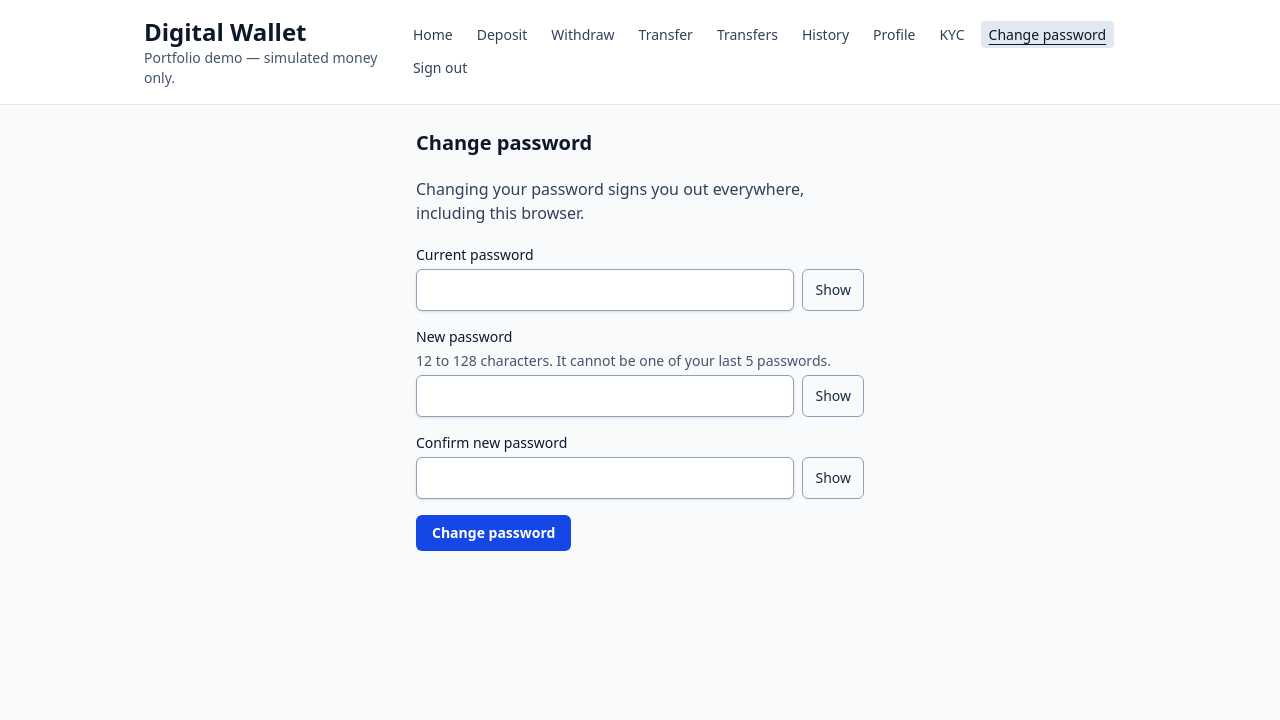
Test case: ChangePasswordPage › shows a policy refusal from the server
The width and height of the screenshot is (1280, 720).
Type "the old passphrase" into the password field labelled "Current password".
click(605, 290); type("the old passphrase")  # box [416,269,794,311]
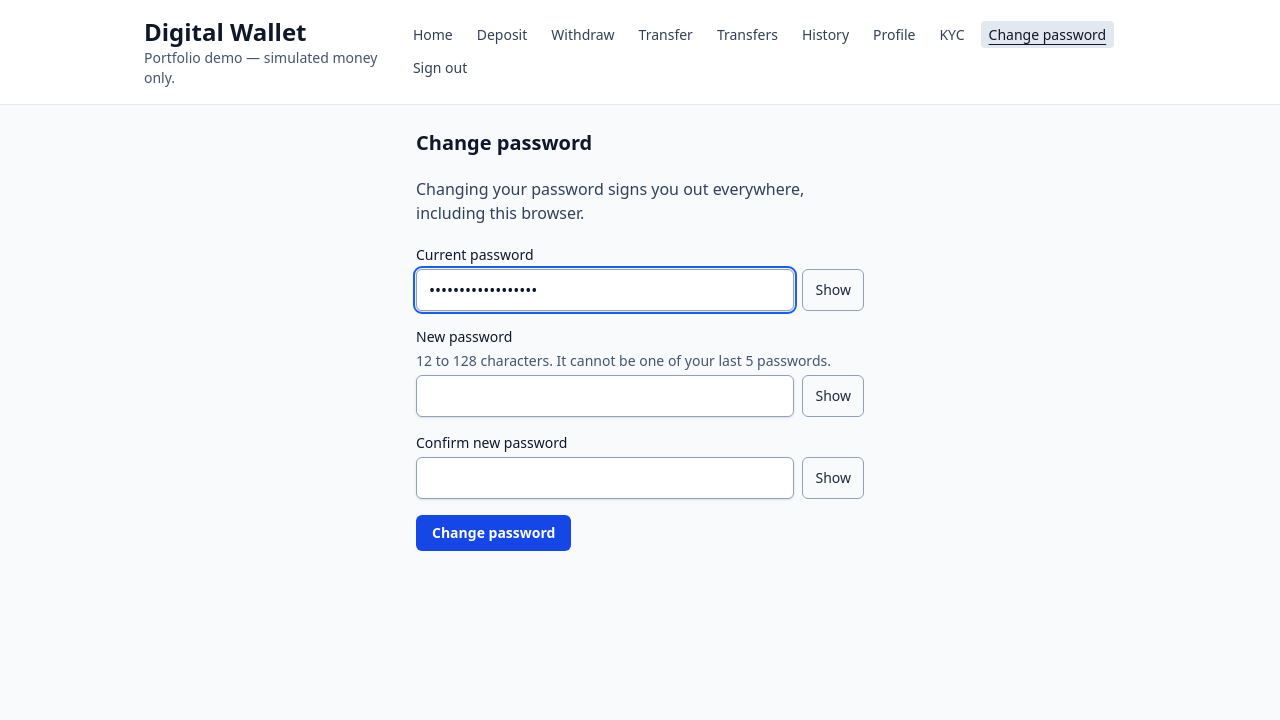
Type "a brand new passphrase" into the password field labelled "New password".
click(605, 396); type("a brand new passphrase")  # box [416,375,794,417]
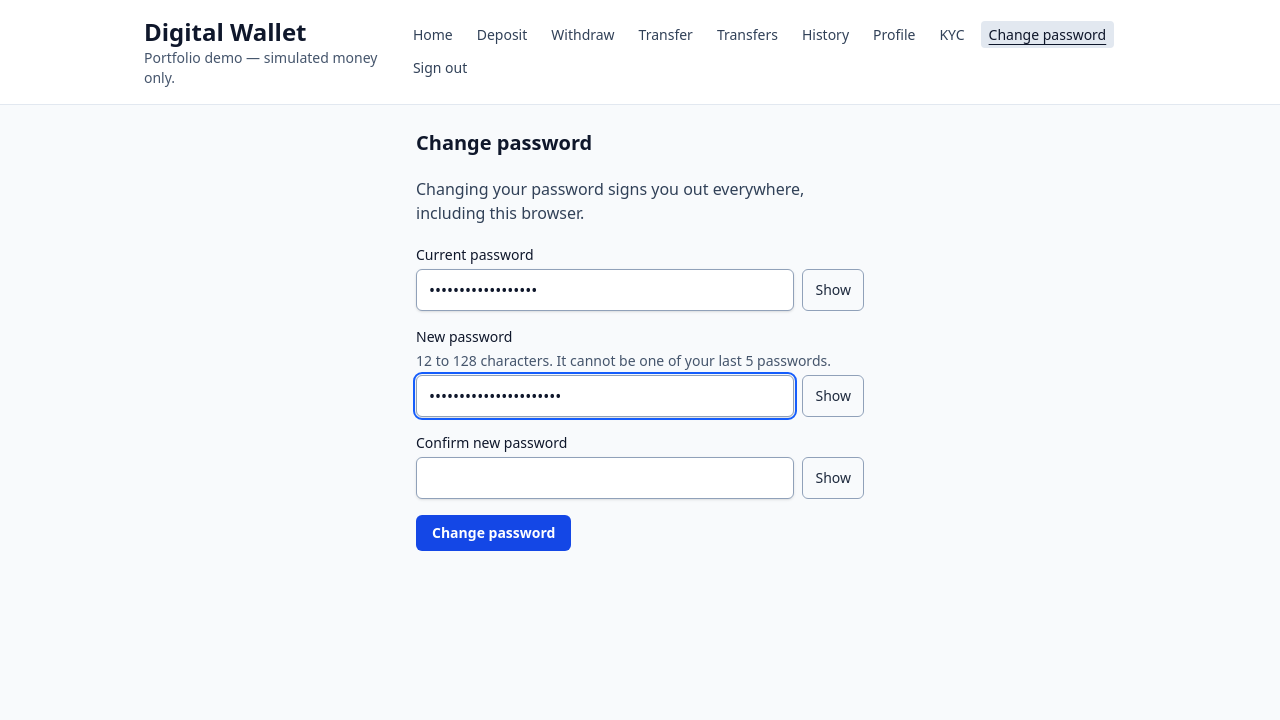
Type "a brand new passphrase" into the password field labelled "Confirm new password".
click(605, 478); type("a brand new passphrase")  # box [416,457,794,499]
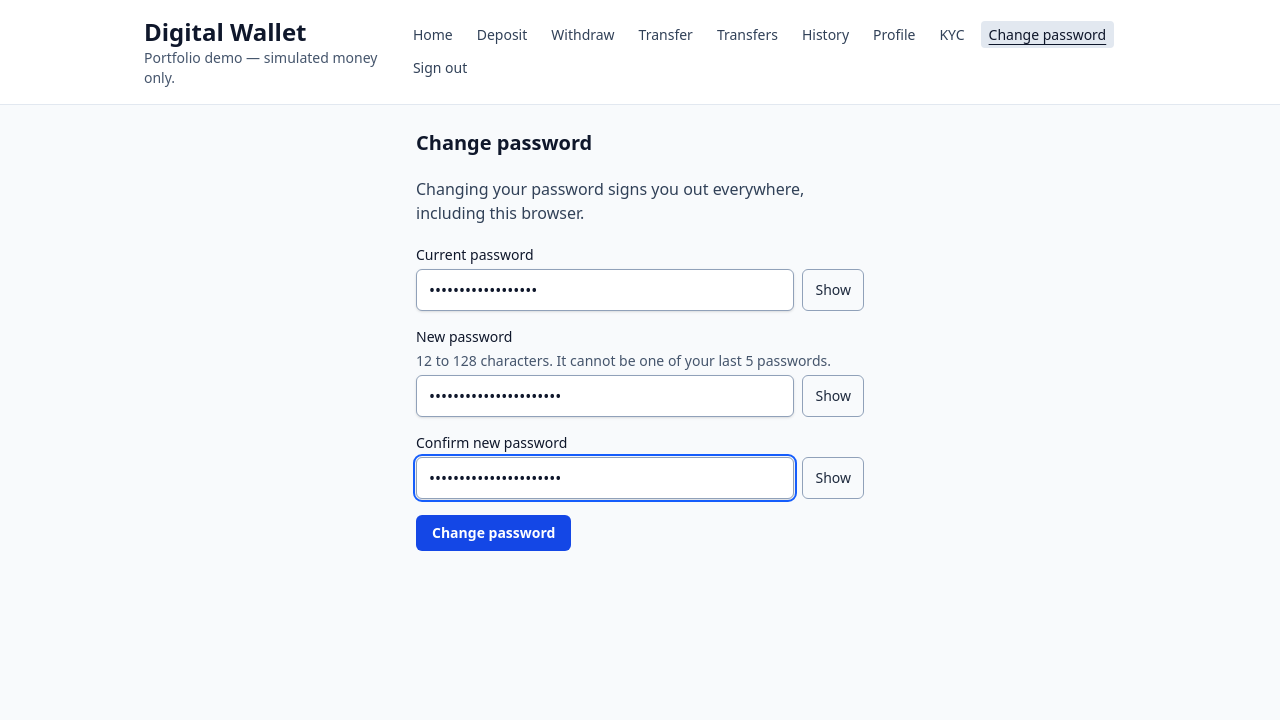
Click the button "Change password".
click(494, 533)  # box [416,515,571,551]
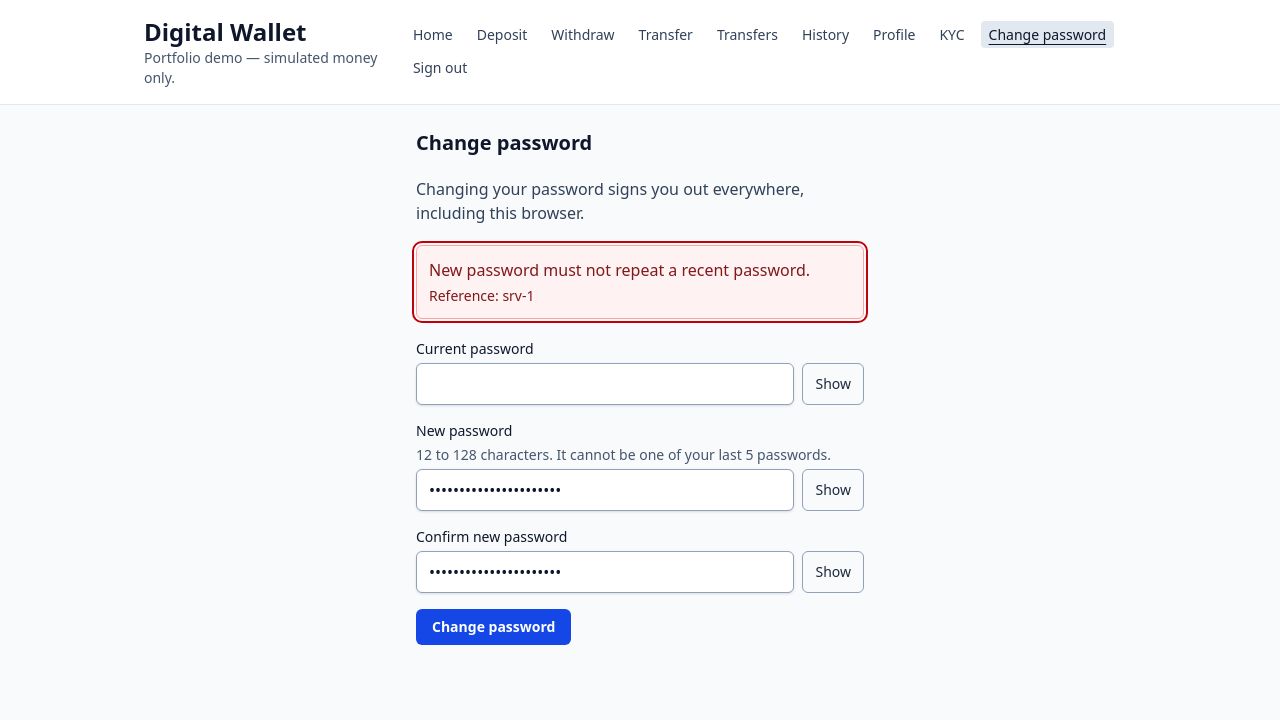
Now the message shows "New password must not repeat a recent password.", box [429,259,810,281]
